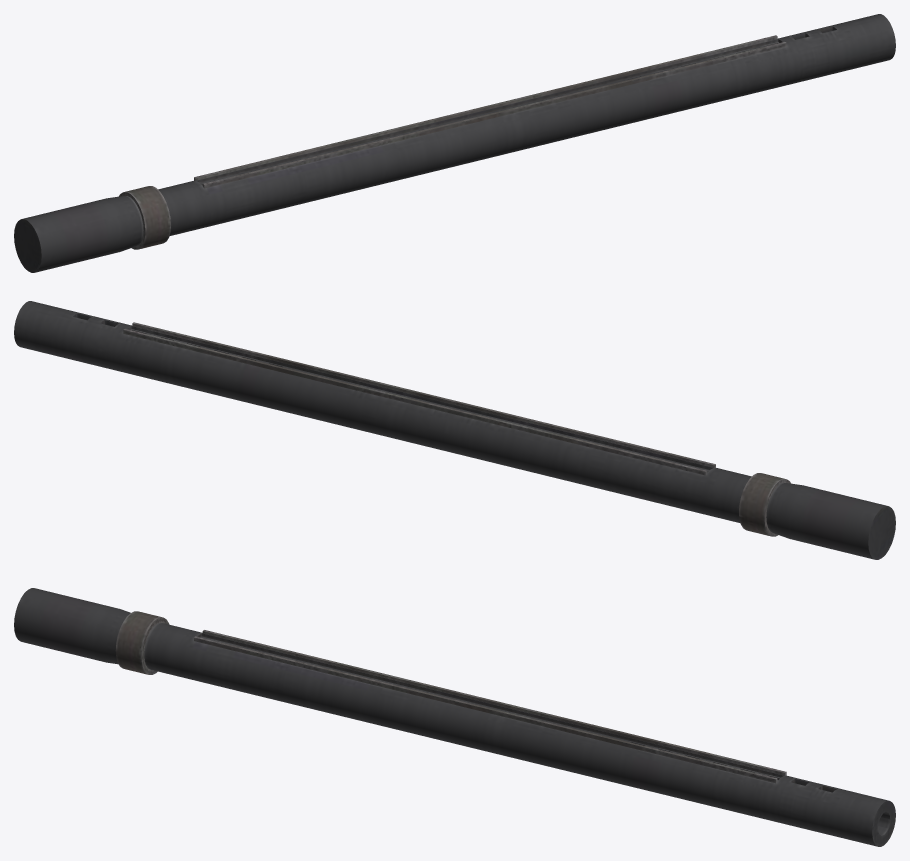
Rendered from gutter_ported_barrel.glb.
3 views of the same model, one above another, from view 1: azimuth 30°, elevation 25°; view 2: azimuth 150°, elevation 25°; view 3: azimuth 330°, elevation 25° (orthographic).
Parts seen in each view (by area): view 1: gutter_ported_barrel; view 2: gutter_ported_barrel; view 3: gutter_ported_barrel.
Boxes of the visible parts, box(x1,y1,x2,y2) form: gutter_ported_barrel: box(14, 14, 895, 272); gutter_ported_barrel: box(14, 301, 895, 559); gutter_ported_barrel: box(14, 588, 895, 846).
Size of the model in its own units: 0.5 by 0.03 by 0.03.
1 material, 1 textured.
